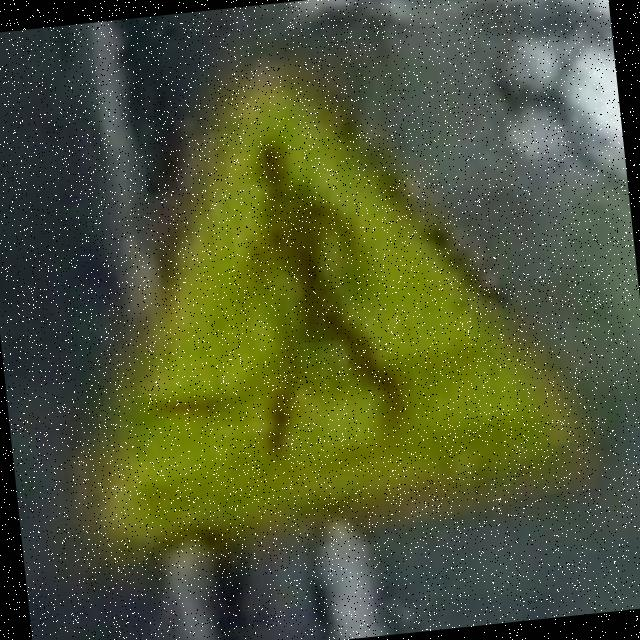Przejscie dla pieszych: (29, 25, 594, 564)
